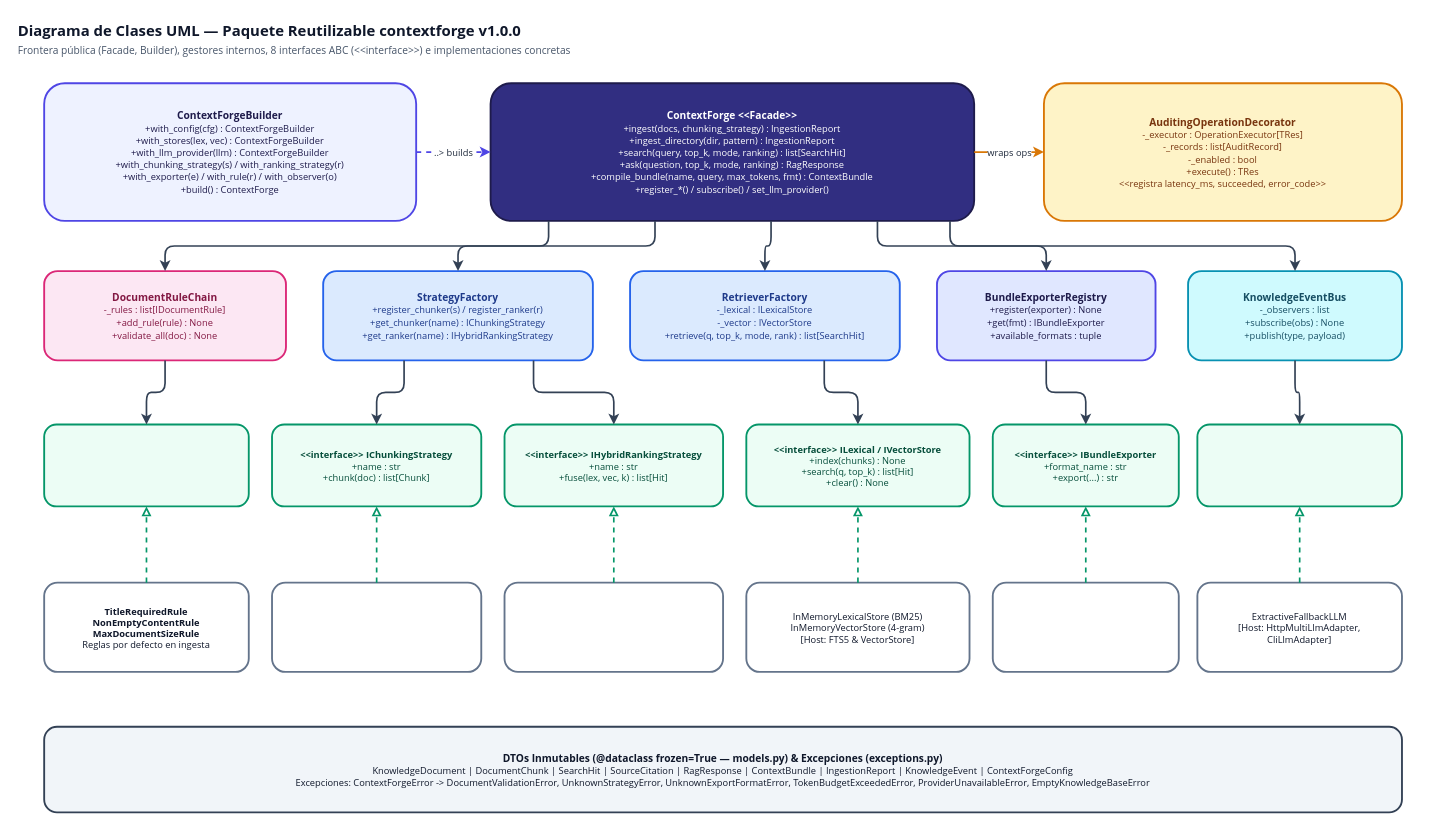
The diagram is 1445 pixels wide and 829 high, and some of its shapes have lost their labels. Each missing label, with the centre of its shape:
<<interface>> IDocumentRule +rule_name : str +validate(doc) : None: point 146,465
<<interface>> ILLM / IObserver +generate(p, sys) : str +on_event(ev) : None: point 1299,465
HeadingAwareChunking SlidingWindowChunking Segmentación Markdown / fija: point 376,626
MarkdownBundleExporter JsonBundleExporter XmlBundleExporter: point 1085,626
ReciprocalRankFusion WeightedLinearRanking Fusión RRF (k=60) y lineal: point 613,626
